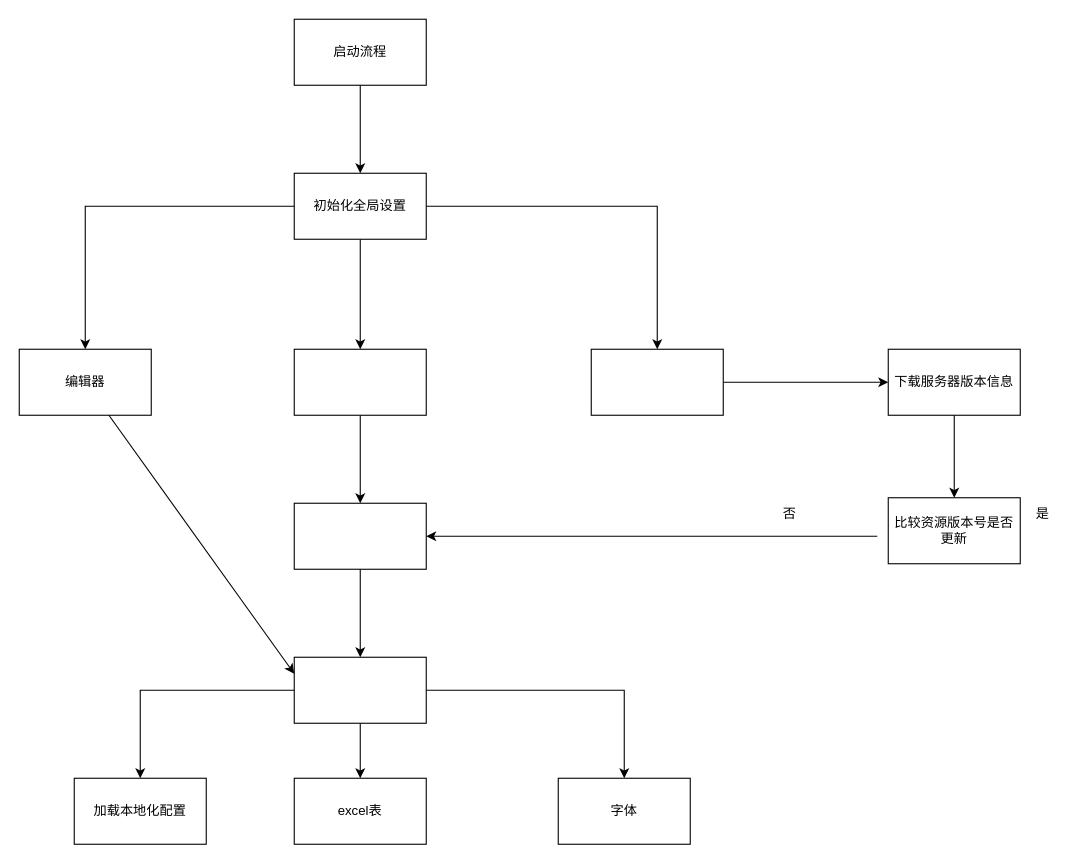
Image size: 1078x864. Some labels were removed from this diagram. The shapes that lost their labels are listed below. From the top down, each one's centre as x and y in pixels, then its label:
point 359,381: 单机
point 656,381: 更新
point 359,535: 读取GFversion信息 配置资源信息
point 359,689: 加载配置信息
